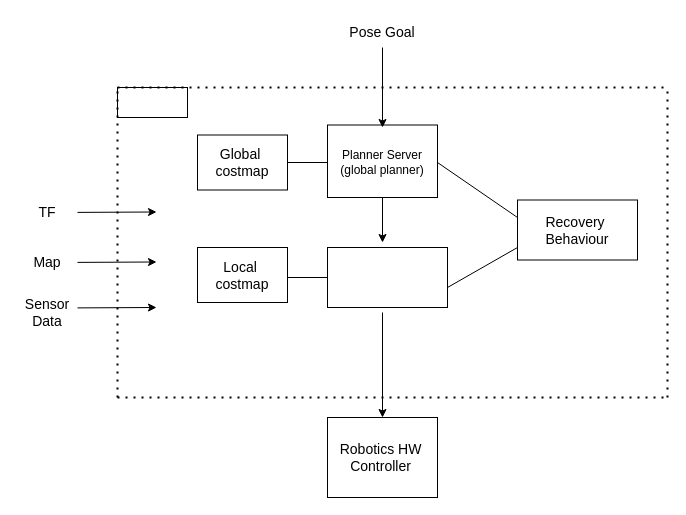
This 686x515 diagram has some shape labels left out. Each missing label, with the centre of its shape:
Controller (Local planner): (x=387, y=277)
Nav2: (x=152, y=102)
